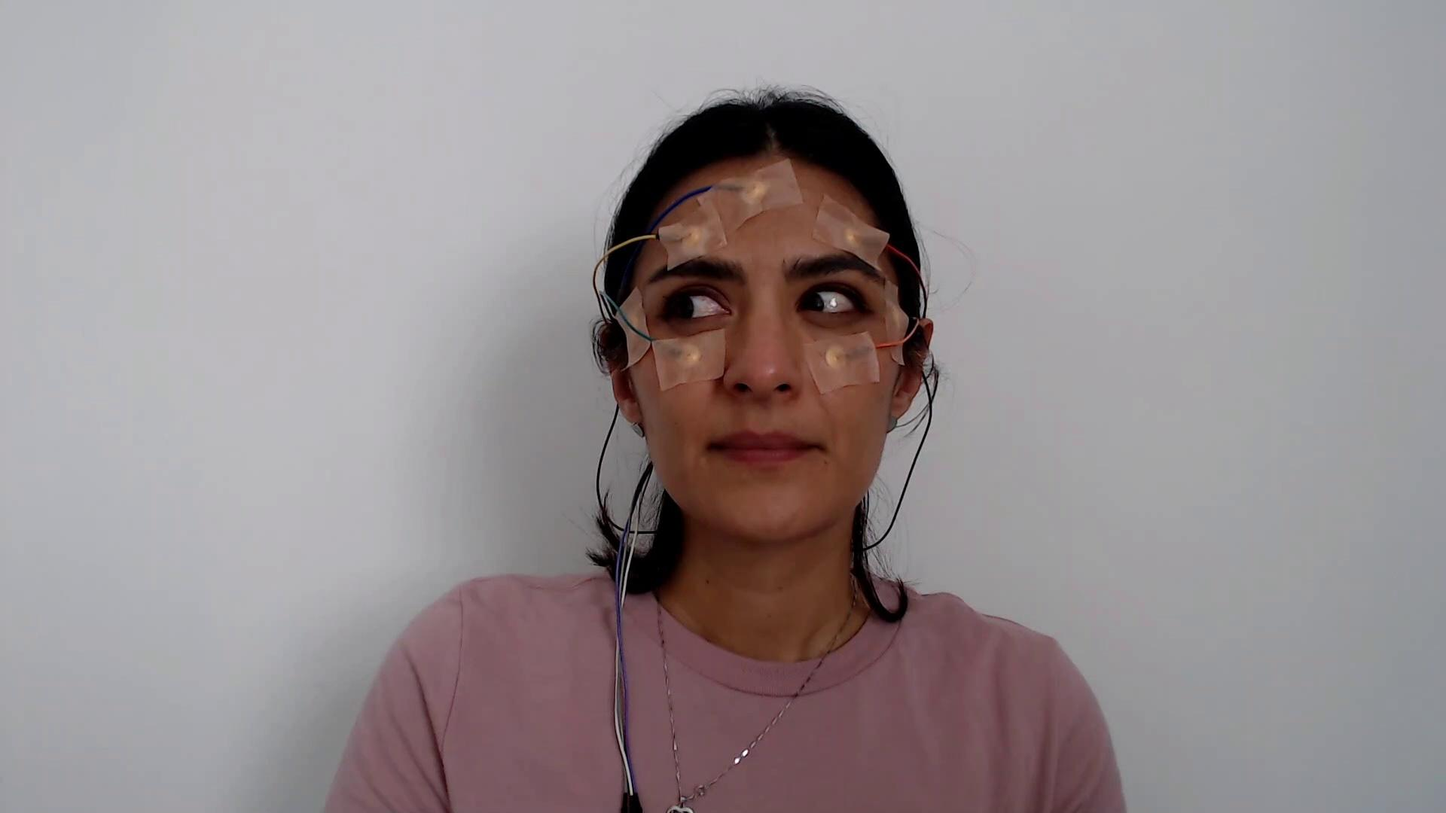Iris: (671, 297, 693, 317), (804, 292, 824, 311)
Ojos: (794, 280, 870, 319), (661, 284, 734, 324)
